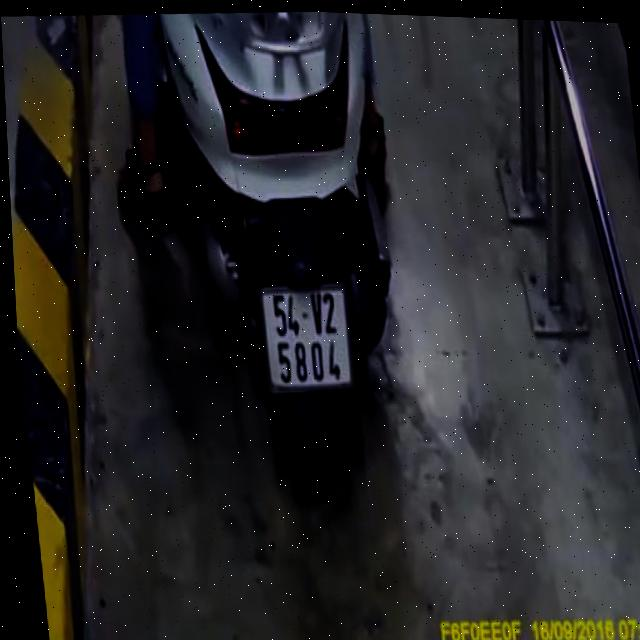motorcycle: (154, 6, 427, 517)
plate: (251, 277, 359, 394)
